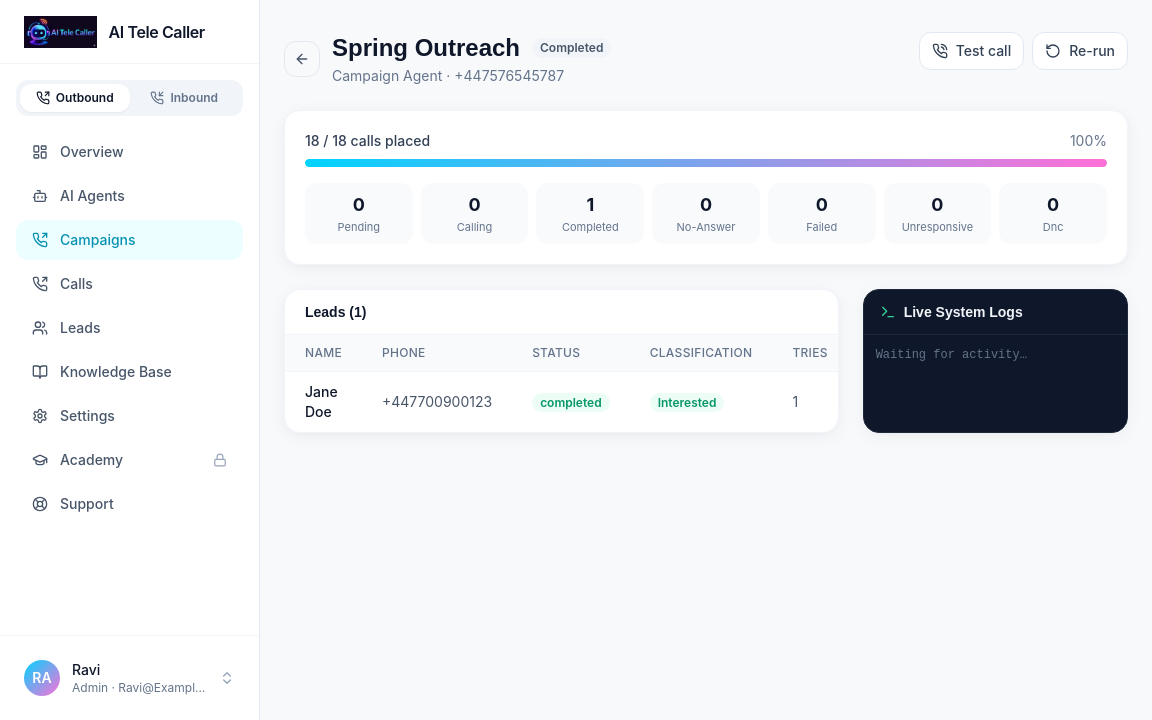
Test: testing a campaign before dialling the list › says the lead list is untouched
Click the button "Test call" at (971, 51), box 919,32 -> 1024,70
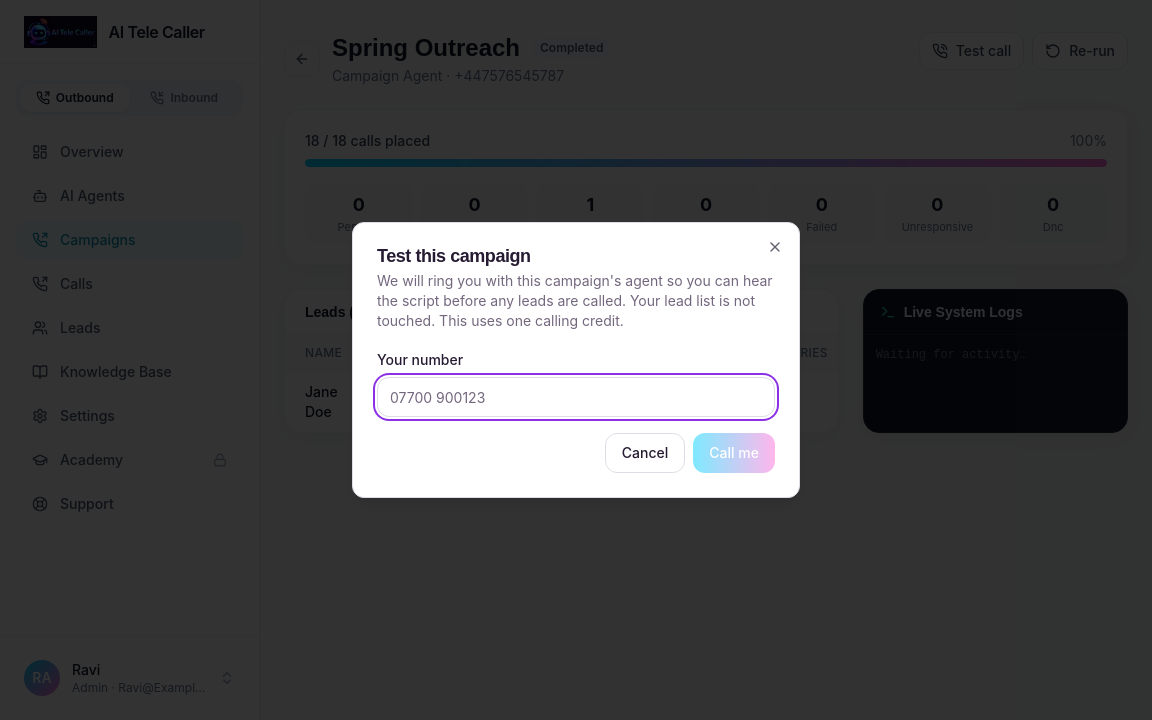
Now the text "lead list is not touched" is shown, box 377,272 -> 773,329
